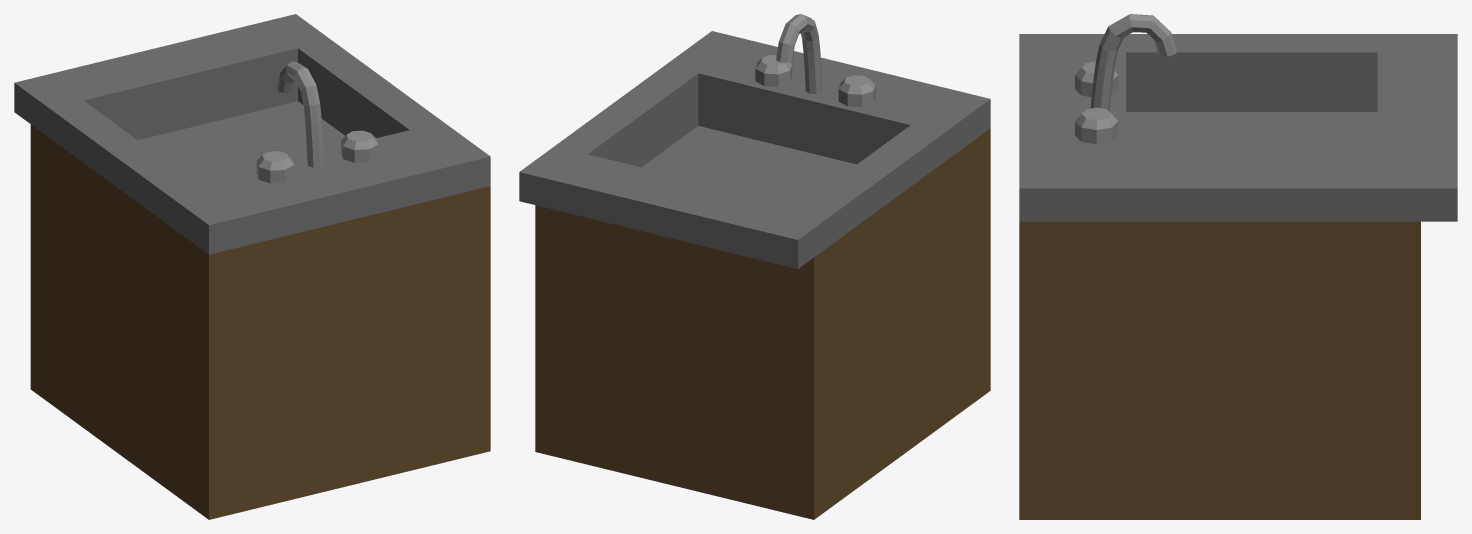
Rendered from Sink.fbx.
The picture shows the model from 3 angles, left to right: view 1: azimuth 30°, elevation 25°; view 2: azimuth 150°, elevation 25°; view 3: azimuth 270°, elevation 25°; orthographic projection. The views are drawn at different scales.
Parts seen in each view (by area): view 1: Sink; view 2: Sink; view 3: Sink.
Part boxes in pixels (x1,y1,x2,y2): Sink: (14,14,490,519); Sink: (519,14,990,519); Sink: (1019,14,1457,519).
Bounding box in the file's own units: 1 × 1.29 × 1.2.
